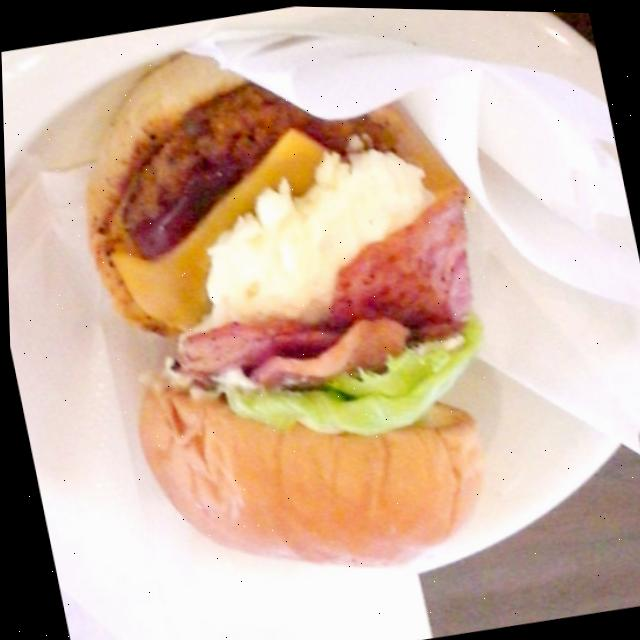汉堡快餐: (51, 8, 535, 617)
